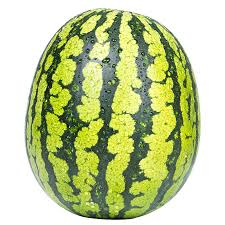watermelon: (27, 8, 199, 221)
